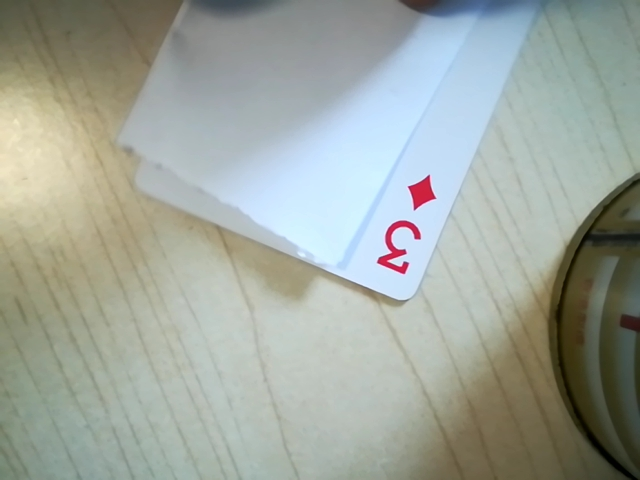fk 3: (360, 172, 441, 285)
